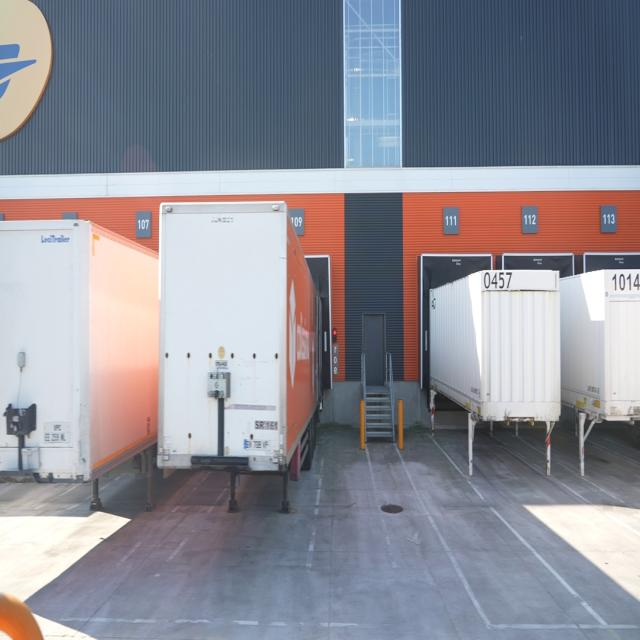Code: (481, 266, 515, 295), (609, 266, 640, 296)
